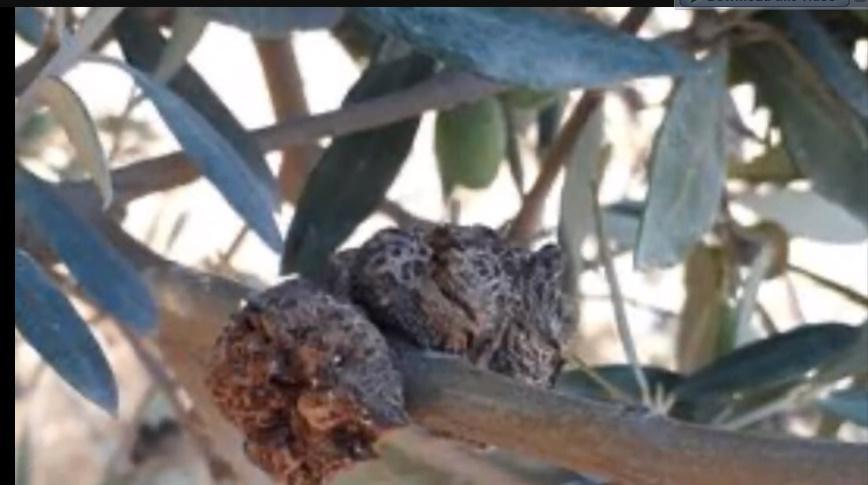Tuberculosis: (198, 272, 416, 482), (348, 215, 575, 373)
